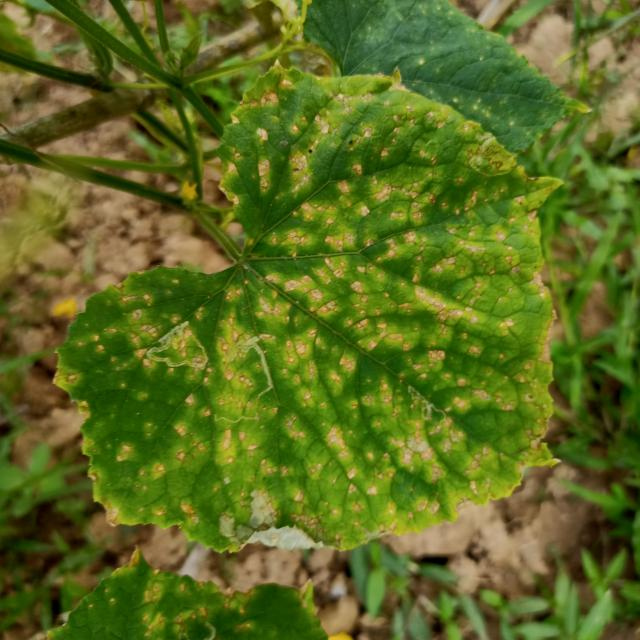disease_cucumber: (77, 76, 549, 537)
